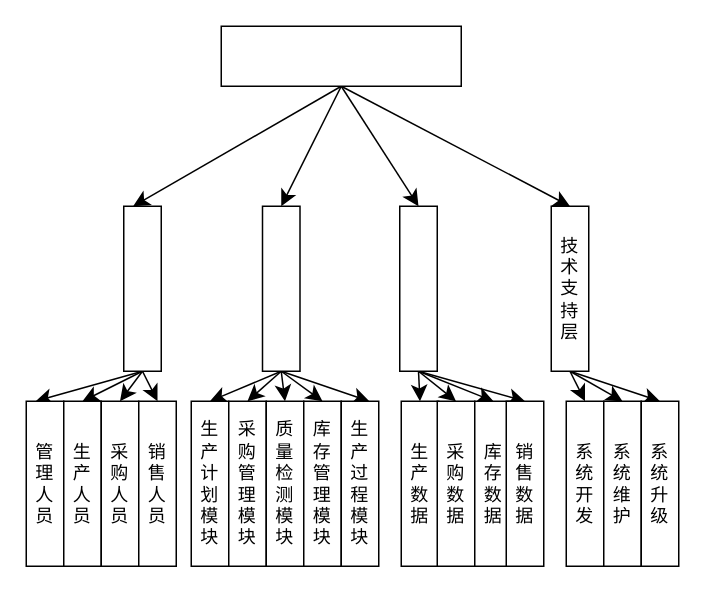
Some shapes in this 705 by 593 pixel diagram are drawn without their labels. Here are the shapes that lost their labels. From the top down, the centre of each, then its label:
At point 340,55: "茶叶生产管理系统".
At point 141,288: "用户层".
At point 280,288: "应用层".
At point 417,288: "数据层".
